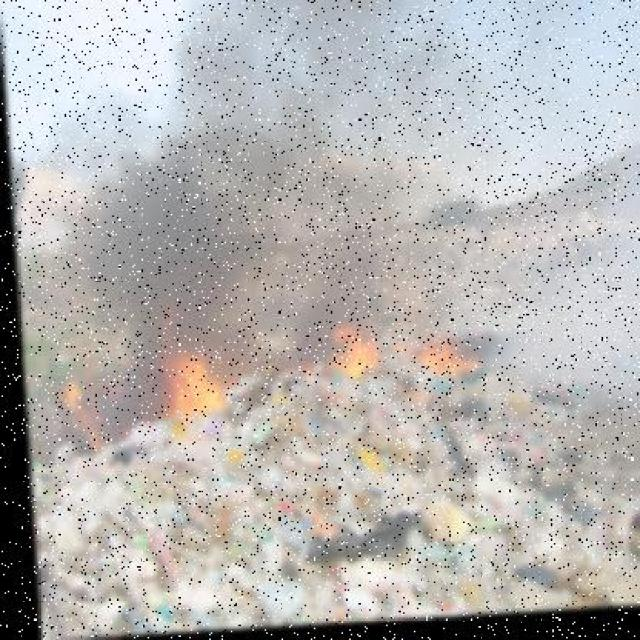fire: (114, 336, 477, 436)
